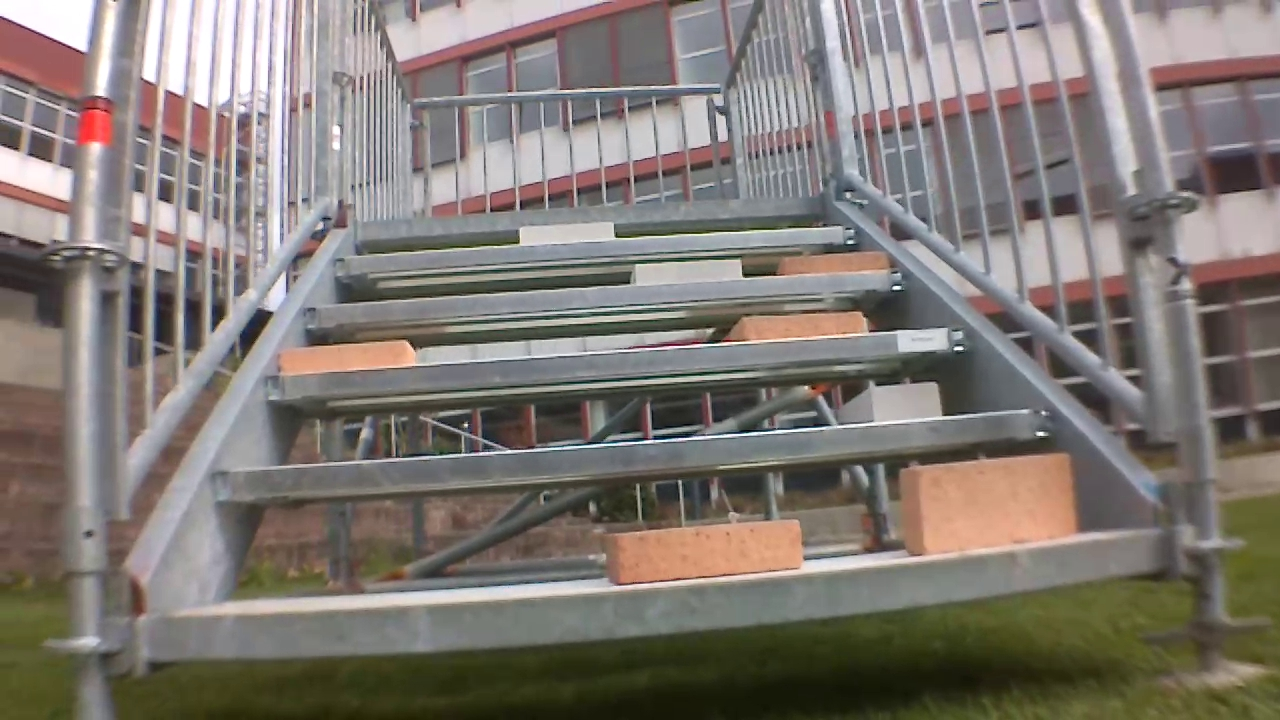brick: (905, 455, 1083, 543), (609, 520, 806, 577), (727, 304, 871, 342), (278, 335, 413, 373), (855, 378, 946, 423), (628, 254, 743, 285), (515, 216, 618, 247), (785, 250, 896, 276)
edge: (162, 534, 1174, 658), (208, 421, 1050, 504), (262, 344, 980, 399), (300, 285, 914, 324), (346, 191, 828, 234), (336, 234, 871, 272)
stairs: (65, 0, 1246, 689)
steps: (115, 189, 1197, 653)
